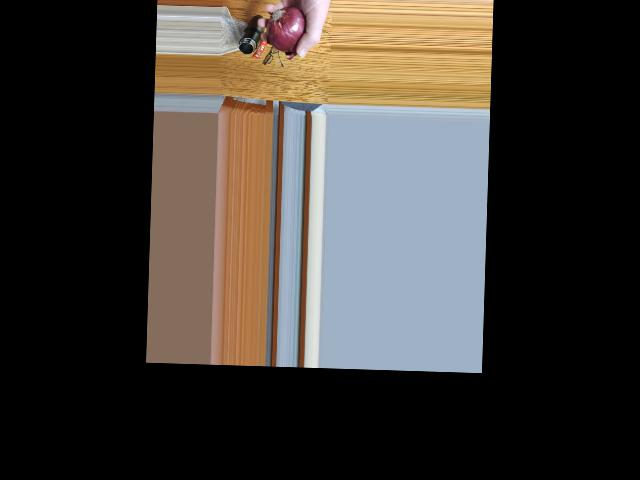onion: (266, 13, 303, 50)
